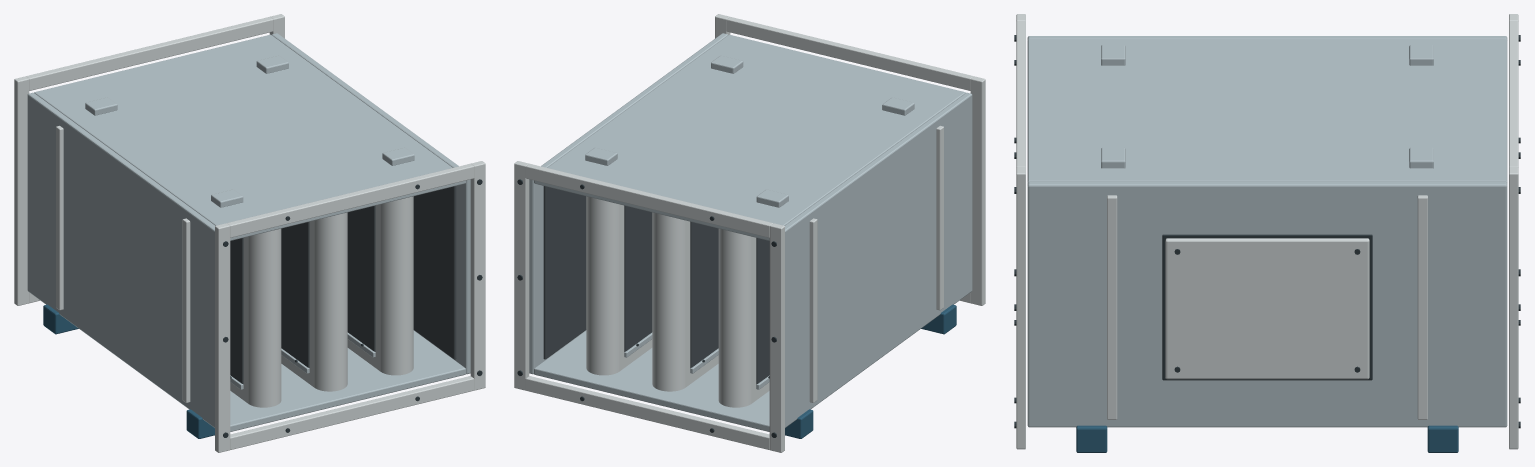
Rendered from city-duct-silencer-module.glb.
3 renders of one model, left to right at view 1: azimuth 30°, elevation 25°; view 2: azimuth 150°, elevation 25°; view 3: azimuth 270°, elevation 25°, orthographic. The views are drawn at different scales.
Visible parts, largest first — view 1: Assembly | Satin galvanized appearance steel, Assembly | Light formed aluminum, Assembly | Charcoal acoustic splitter appearance, Assembly | Deep blue powder coat; view 2: Assembly | Satin galvanized appearance steel, Assembly | Light formed aluminum, Assembly | Charcoal acoustic splitter appearance, Assembly | Deep blue powder coat; view 3: Assembly | Satin galvanized appearance steel, Assembly | Light formed aluminum, Assembly | Graphite mechanical fittings, Assembly | Deep blue powder coat.
Boxes of the visible parts, box(x1,y1,x2,y2) form: Assembly | Satin galvanized appearance steel: box(27, 33, 470, 431); Assembly | Light formed aluminum: box(14, 14, 485, 452); Assembly | Charcoal acoustic splitter appearance: box(230, 186, 456, 384); Assembly | Deep blue powder coat: box(43, 304, 214, 438); Assembly | Satin galvanized appearance steel: box(529, 33, 972, 431); Assembly | Light formed aluminum: box(514, 14, 985, 452); Assembly | Charcoal acoustic splitter appearance: box(543, 186, 769, 384); Assembly | Deep blue powder coat: box(785, 304, 956, 438); Assembly | Satin galvanized appearance steel: box(1027, 36, 1507, 427); Assembly | Light formed aluminum: box(1016, 14, 1518, 449); Assembly | Graphite mechanical fittings: box(1014, 35, 1520, 428); Assembly | Deep blue powder coat: box(1076, 425, 1458, 452).
Size of the model in its own units: 1.16 by 0.9495 by 1.54.
